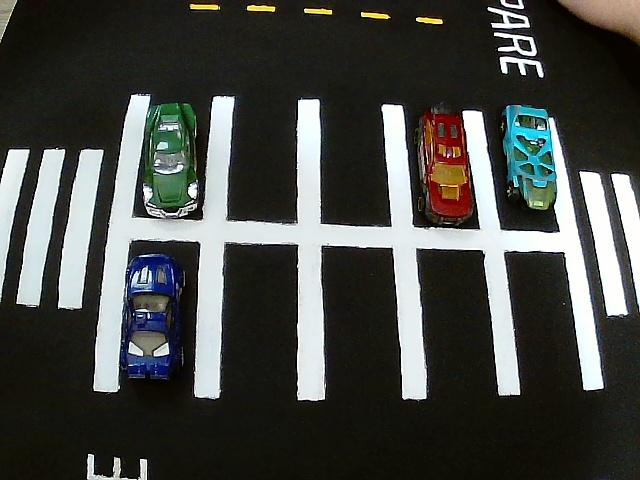Carro: (122, 243, 183, 383), (502, 103, 564, 216), (421, 109, 476, 229), (143, 103, 199, 219)
